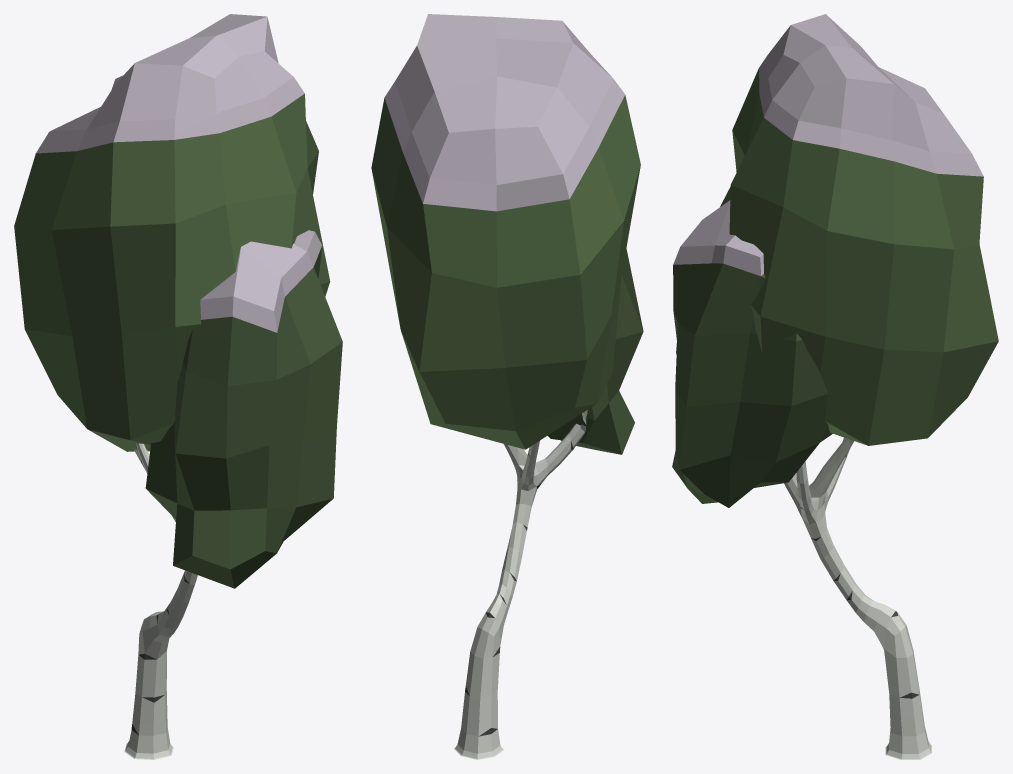
Rendered from birchtree_snow_2.glb.
3 renders of one model, left to right at view 1: azimuth 30°, elevation 25°; view 2: azimuth 150°, elevation 25°; view 3: azimuth 270°, elevation 25°, orthographic. The views are drawn at different scales.
Parts seen in each view (by area): view 1: BirchTree_Snow_2; view 2: BirchTree_Snow_2; view 3: BirchTree_Snow_2.
Boxes of the visible parts, box(x1,y1,x2,y2) form: BirchTree_Snow_2: box(14, 14, 342, 759); BirchTree_Snow_2: box(371, 14, 643, 759); BirchTree_Snow_2: box(672, 14, 998, 759).
Size of the model in its own units: 1.47 by 4.09 by 1.69.
